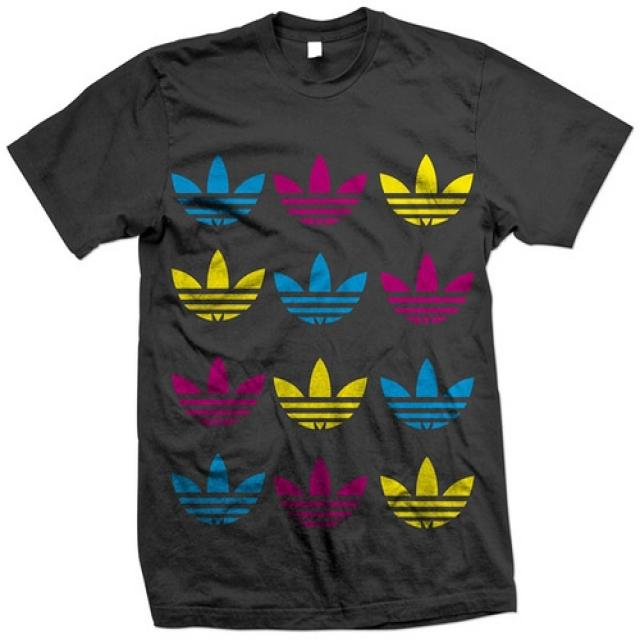adidas: (377, 150, 481, 239), (379, 353, 481, 443), (377, 454, 481, 540), (166, 247, 271, 331), (271, 351, 371, 437), (271, 451, 370, 537), (165, 351, 268, 433), (274, 250, 374, 334), (271, 151, 372, 234), (170, 451, 270, 534), (170, 150, 268, 234), (380, 251, 480, 330)
